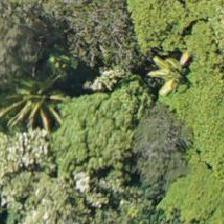coconut_tree: (127, 27, 217, 117), (4, 37, 94, 127)
